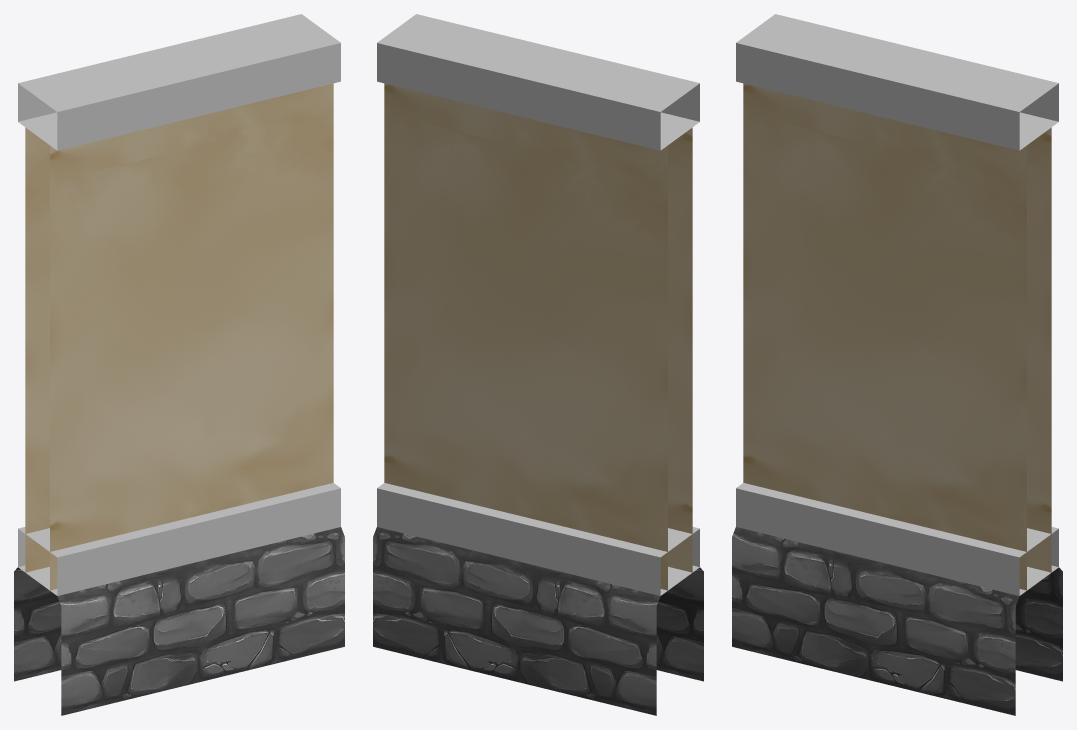
Rendered from MOD_rock_wall_03.fbx.
The picture shows the model from 3 angles, left to right: view 1: azimuth 30°, elevation 25°; view 2: azimuth 150°, elevation 25°; view 3: azimuth 330°, elevation 25°; orthographic projection.
Parts seen in each view (by area): view 1: rock_wall_03; view 2: rock_wall_03; view 3: rock_wall_03.
Boxes of the visible parts, box(x1,y1,x2,y2) form: rock_wall_03: box(14, 14, 344, 715); rock_wall_03: box(373, 14, 703, 715); rock_wall_03: box(732, 14, 1062, 715).
Bounding box in the file's own units: 78.74 × 22.62 × 159.
